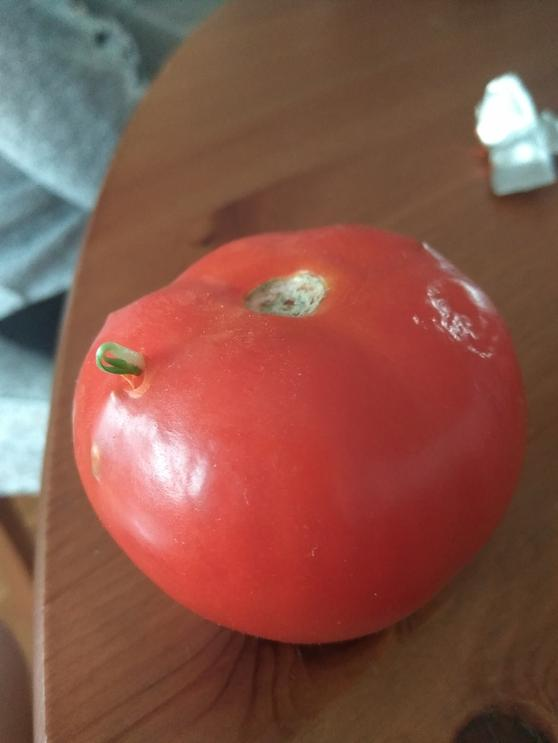tomato: (77, 224, 530, 642)
